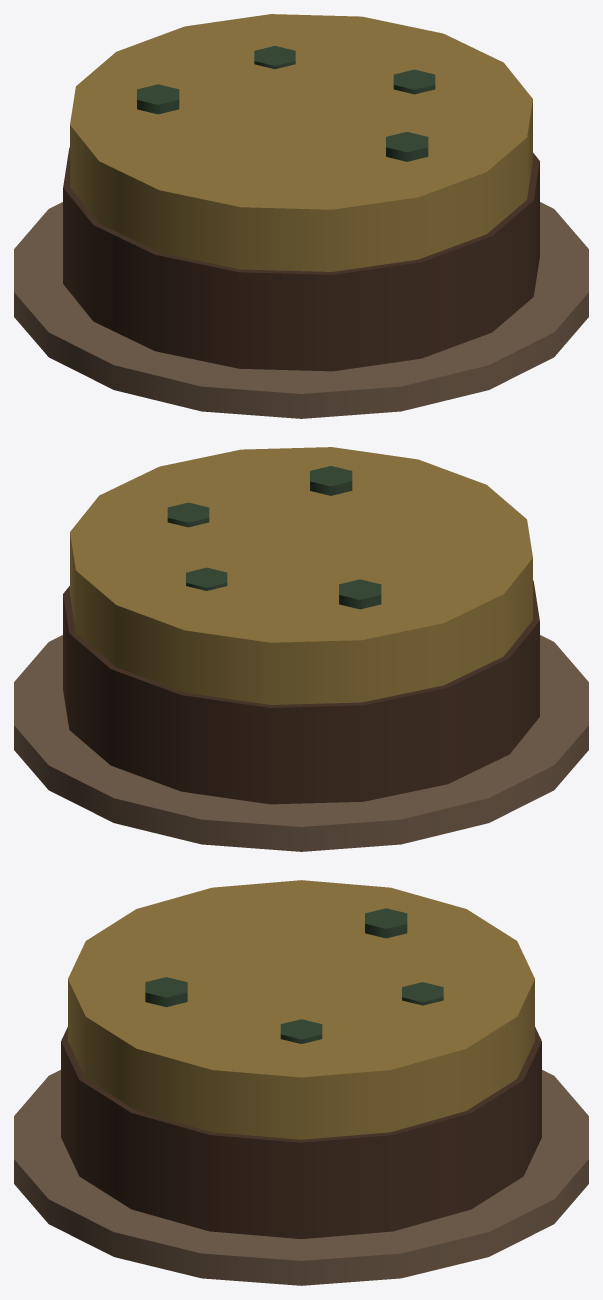
Rendered from moa_tamagoyaki.obj.
3 views of the same model, one above another, from view 1: azimuth 30°, elevation 25°; view 2: azimuth 150°, elevation 25°; view 3: azimuth 270°, elevation 25° (orthographic).
Parts seen in each view (by area): view 1: moa_tamagoyaki; view 2: moa_tamagoyaki; view 3: moa_tamagoyaki.
Part boxes in pixels (bbox=[...]): moa_tamagoyaki: bbox=[14, 14, 588, 418]; moa_tamagoyaki: bbox=[14, 447, 588, 851]; moa_tamagoyaki: bbox=[14, 880, 588, 1285].
Size of the model in its own units: 1.7 by 0.6251 by 1.67.
